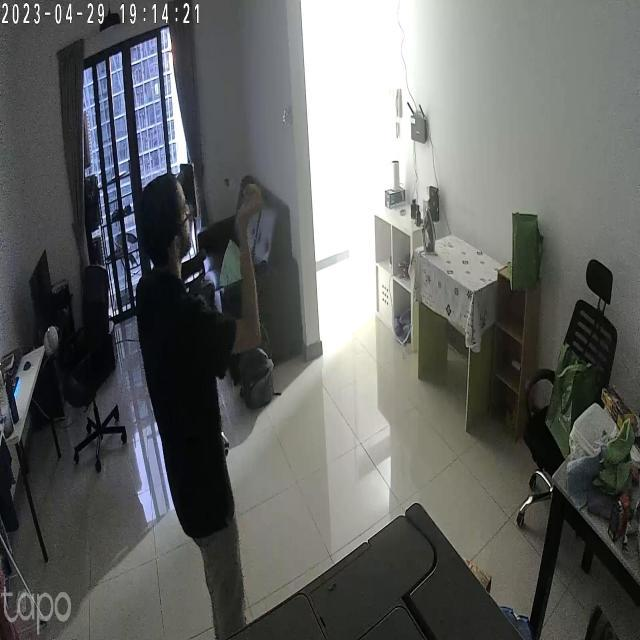Knife: (218, 170, 274, 225)
